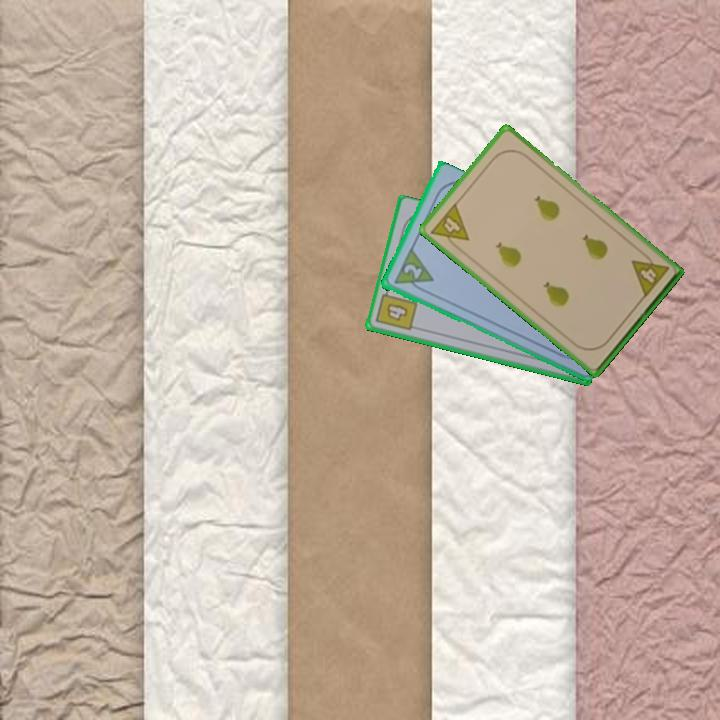2p: (390, 246, 436, 296)
4b: (372, 284, 420, 334)
4p: (427, 199, 472, 254), (628, 247, 672, 301)
